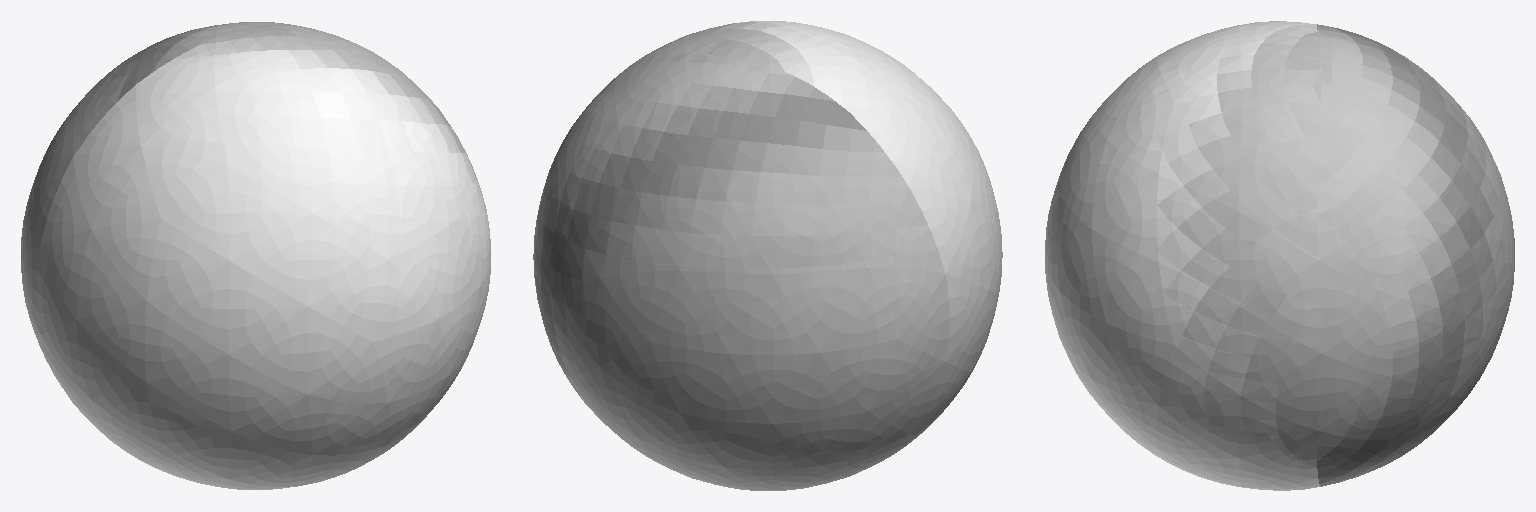
The picture shows the model from 3 angles: view 1: azimuth 30°, elevation 25°; view 2: azimuth 150°, elevation 25°; view 3: azimuth 270°, elevation 25°; orthographic projection.
Parts seen in each view (by area): view 1: 10507_Golf_Ball_v1_L3; view 2: 10507_Golf_Ball_v1_L3; view 3: 10507_Golf_Ball_v1_L3.
Boxes of the visible parts, x1=… form: 10507_Golf_Ball_v1_L3: x1=21, y1=22, x2=490, y2=489; 10507_Golf_Ball_v1_L3: x1=533, y1=21, x2=1002, y2=490; 10507_Golf_Ball_v1_L3: x1=1045, y1=21, x2=1514, y2=490.
Size of the model in its own units: 0.9744 by 0.9765 by 0.9781.
Materials: 1 (1 with a texture image).